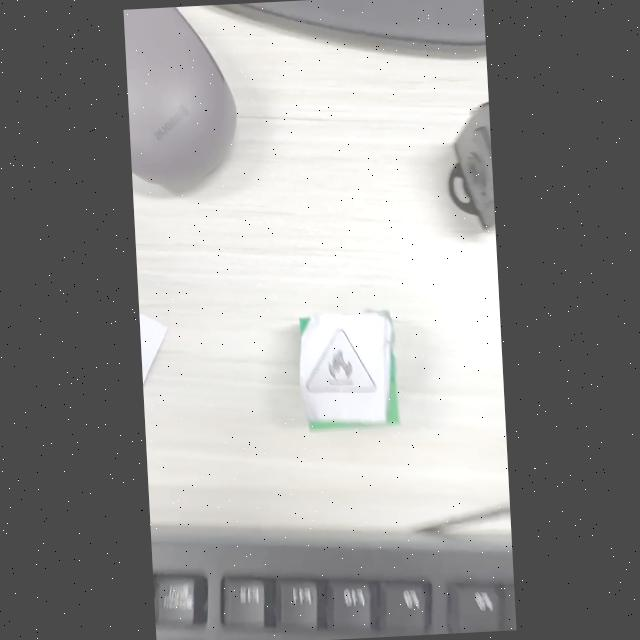Fire: (307, 328, 375, 392)
